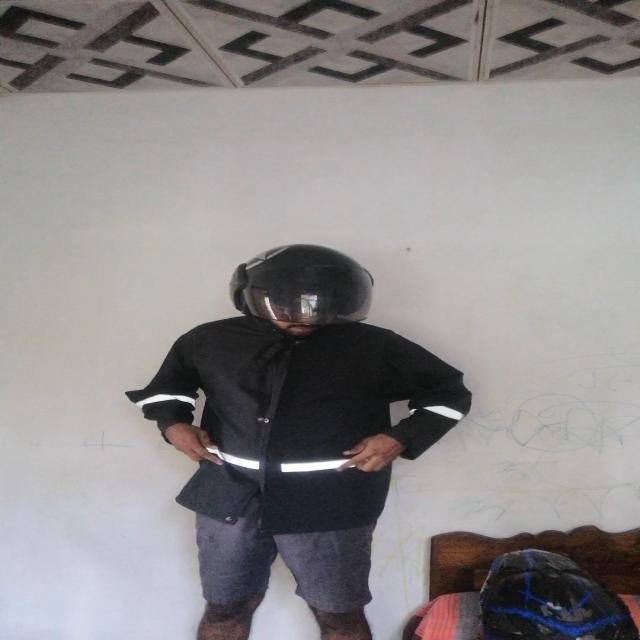Helmet_Wearer: (218, 236, 379, 352)
Jacket_Wearer: (148, 311, 488, 527)
Person: (146, 229, 482, 640)
